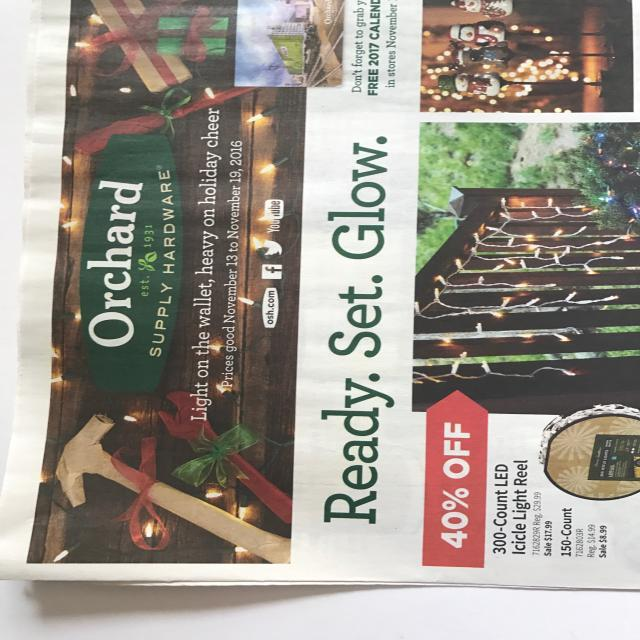paper: (1, 2, 640, 586)
